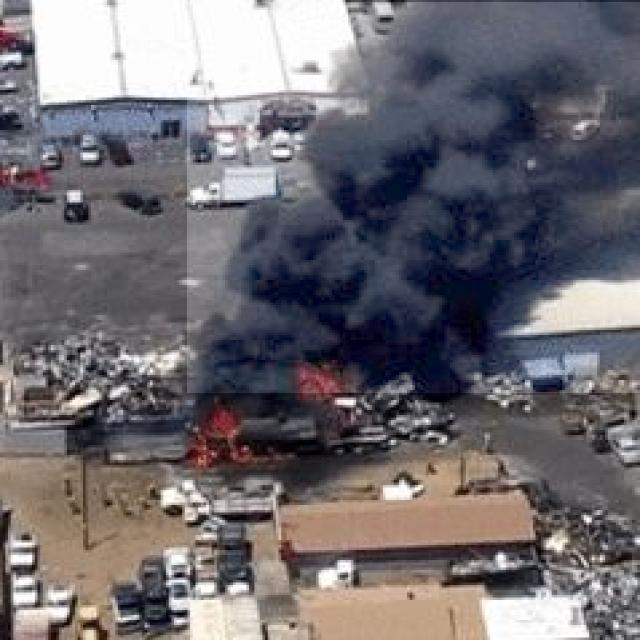Smoke: (187, 2, 640, 393)
